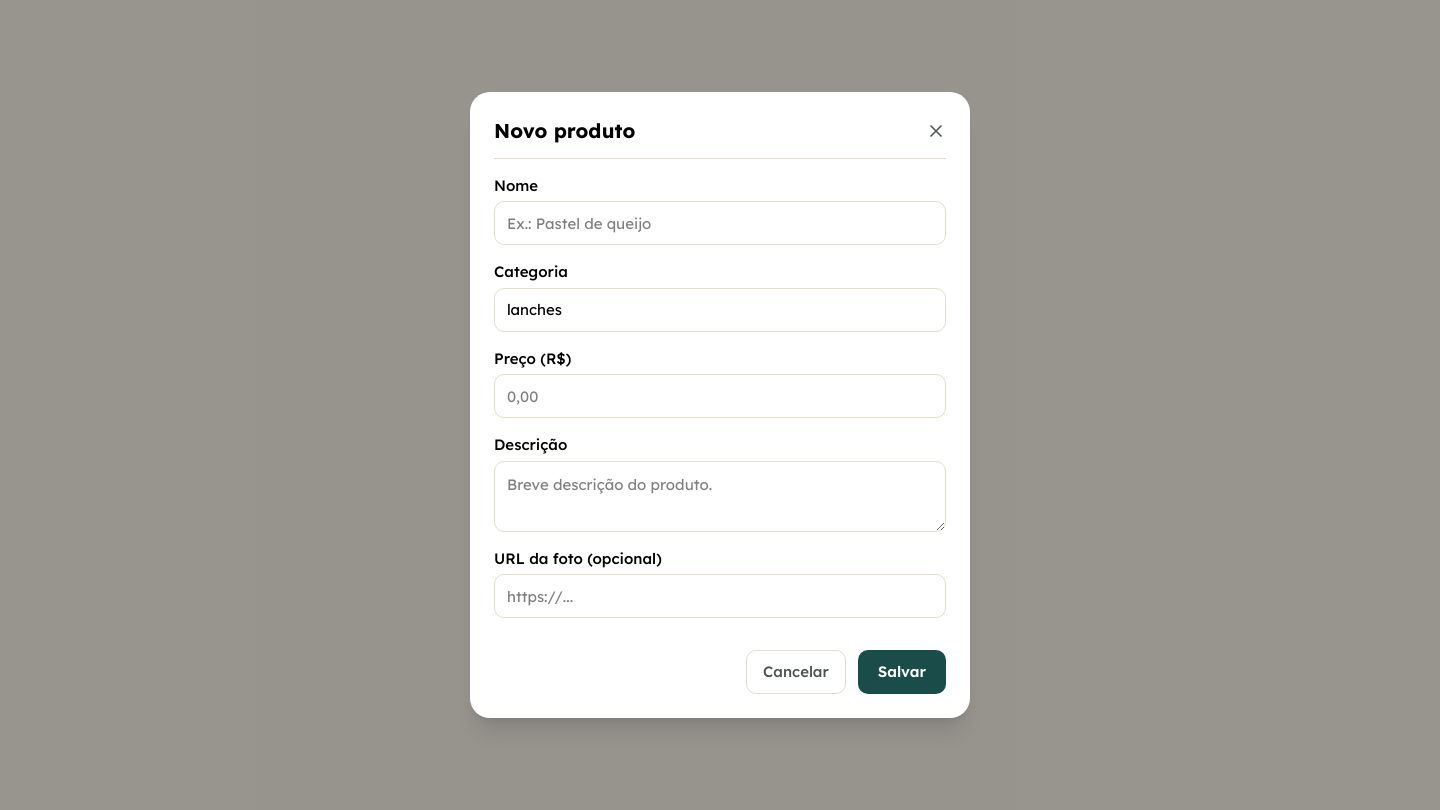
Test: ProductModal › validates invalid photo url format
Type "Pastel" into the field labelled "Nome" at (720, 223), box [494, 201, 946, 245]
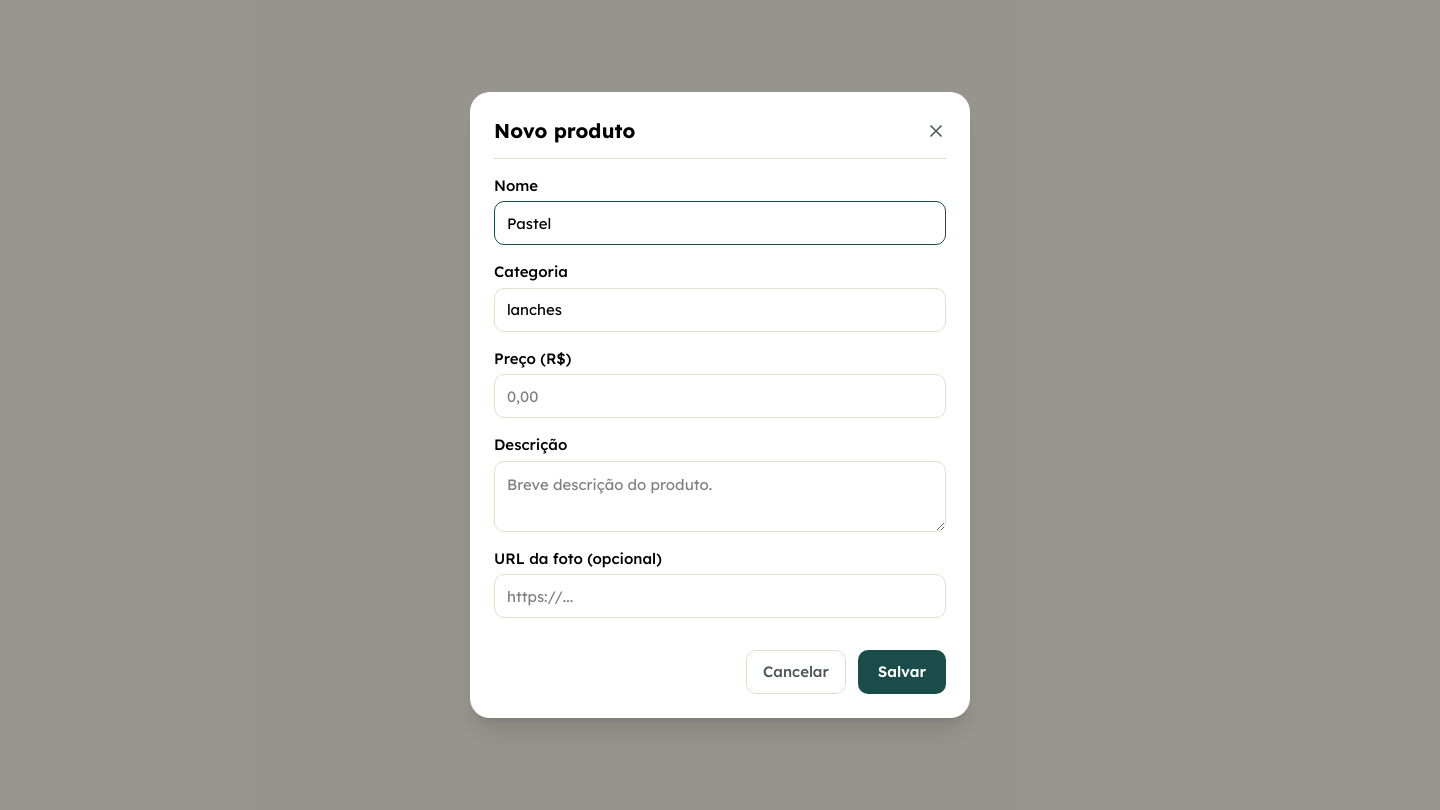
Type "9,00" into the field labelled "Preço (R$)" at (720, 396), box [494, 374, 946, 418]
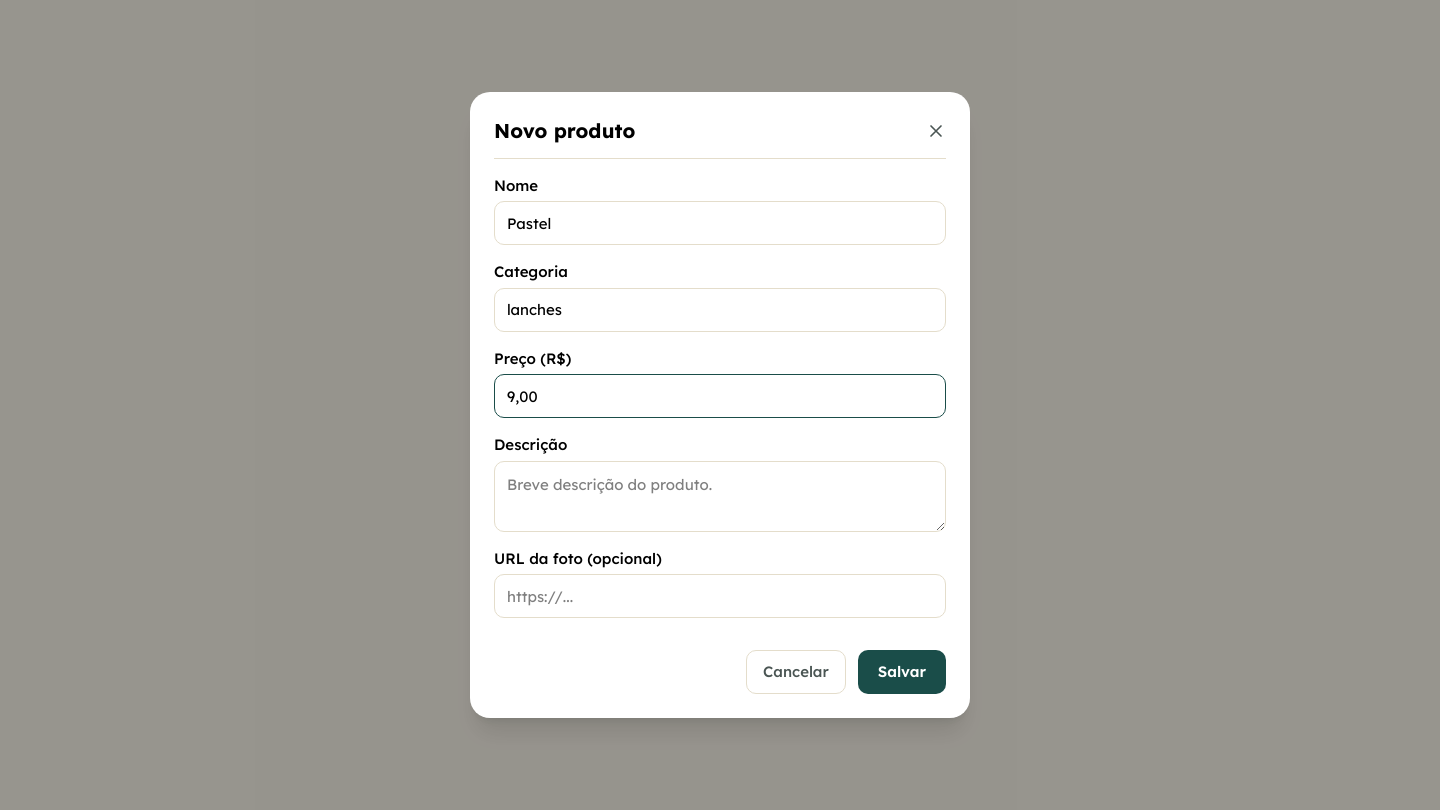
Type "ftp://invalido" into the field labelled "URL da foto (opcional)" at (720, 596), box [494, 574, 946, 618]
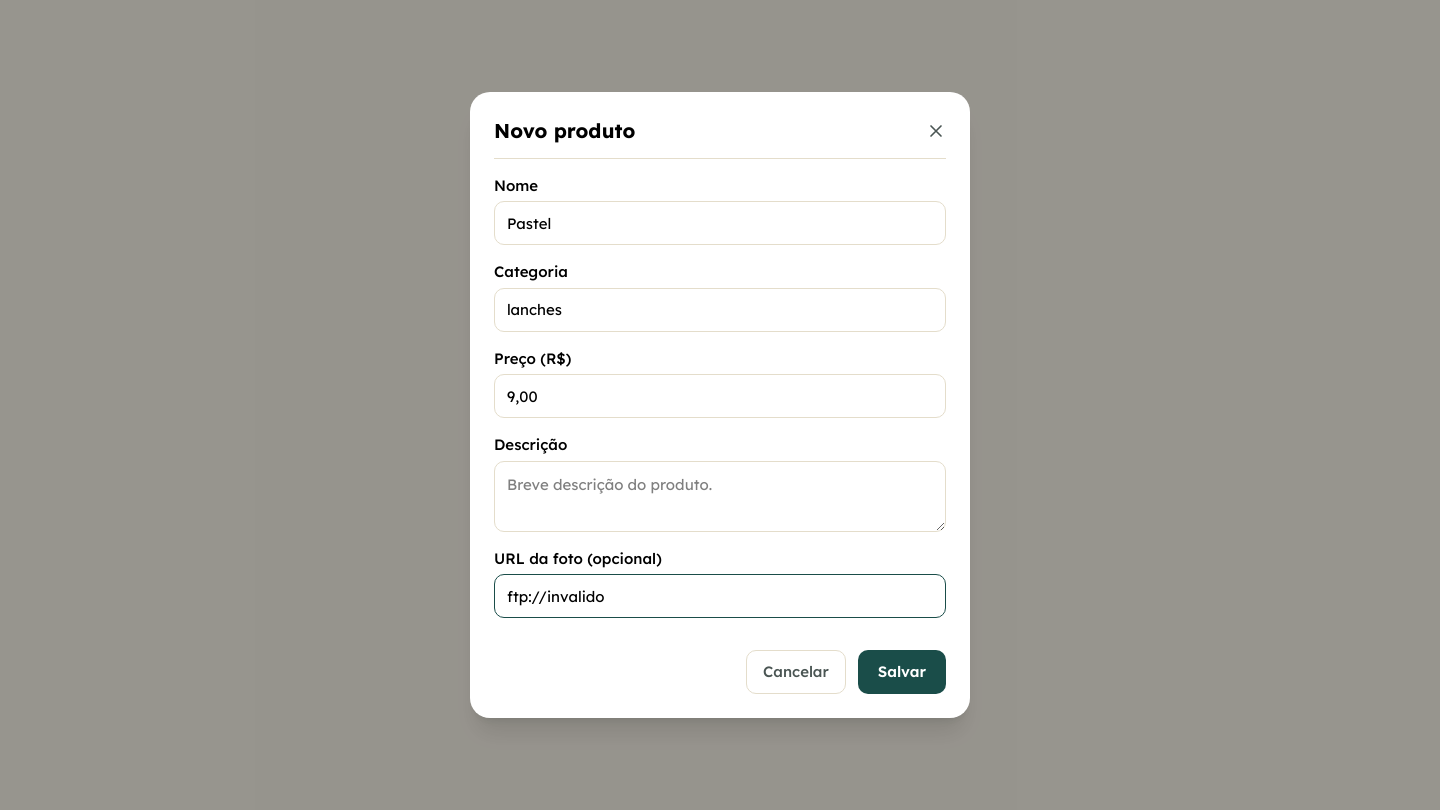
Click the button "Salvar" at (902, 672), box [858, 650, 946, 694]
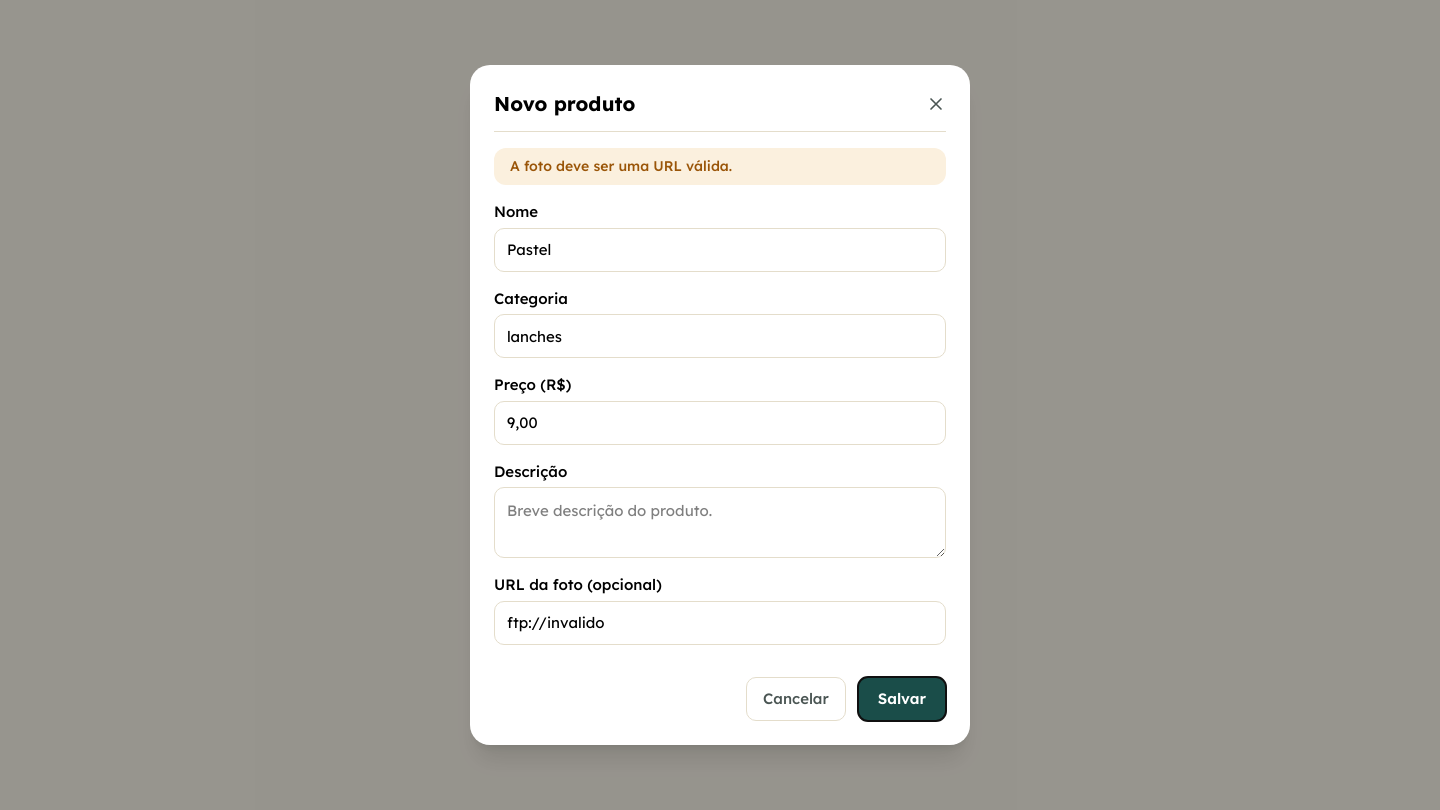
expect the message reads "A foto deve ser uma URL válida.": met, box [510, 157, 732, 175]
